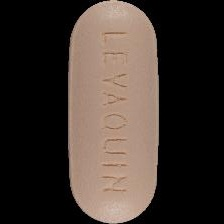43063-113: (0, 0, 224, 224)
